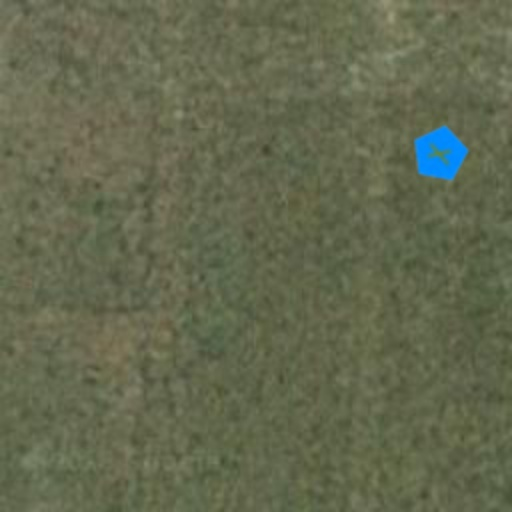pentagon: (404, 118, 476, 190)
